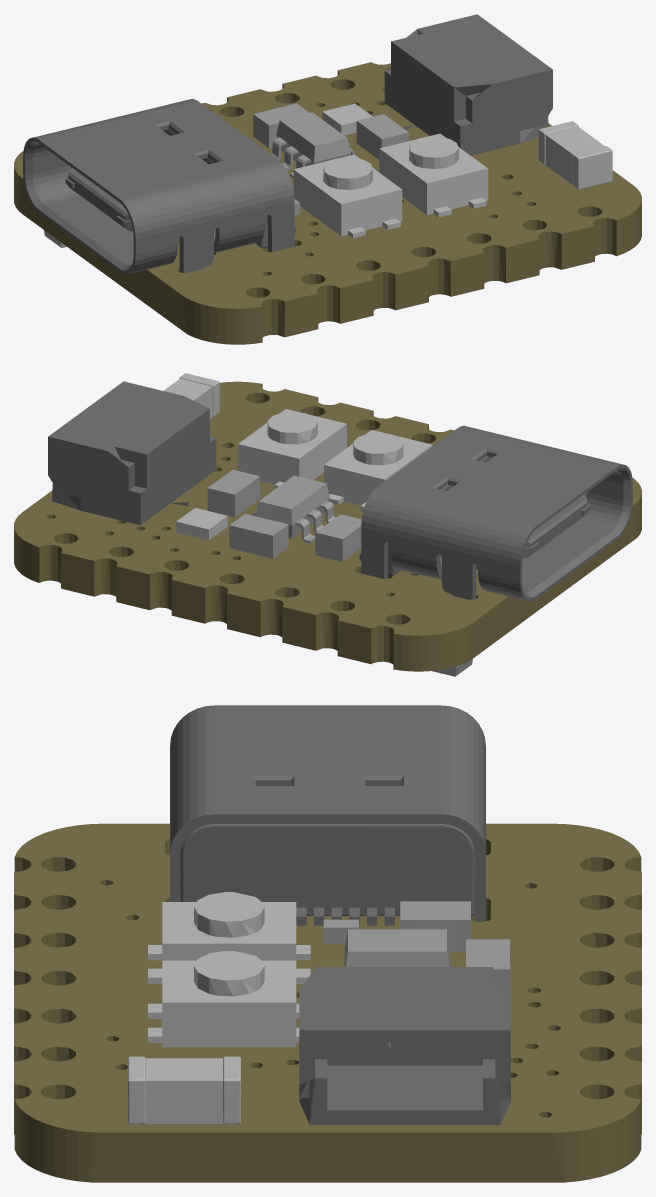
Rendered from adafruit-5426-qt-py-esp32-s3.glb.
3 renders of one model, top to bottom at view 1: azimuth 30°, elevation 25°; view 2: azimuth 150°, elevation 25°; view 3: azimuth 270°, elevation 25°, orthographic. The views are drawn at different scales.
Parts seen in each view (by area): view 1: colour 1, colour 4, colour 3, colour 2; view 2: colour 1, colour 4, colour 3, colour 2; view 3: colour 1, colour 4, colour 3, colour 2.
Boxes of the visible parts, <box> form: colour 1: <box>14,62,641,344</box>; colour 4: <box>23,14,552,274</box>; colour 3: <box>293,103,612,238</box>; colour 2: <box>44,103,408,247</box>; colour 1: <box>14,381,641,671</box>; colour 4: <box>48,381,632,601</box>; colour 3: <box>163,373,432,540</box>; colour 2: <box>207,469,472,676</box>; colour 1: <box>14,823,641,1182</box>; colour 4: <box>170,705,510,1124</box>; colour 3: <box>128,892,310,1123</box>; colour 2: <box>323,901,510,989</box>.
Bounding box in the file's own units: 0.0218 × 0.00587 × 0.0178.
